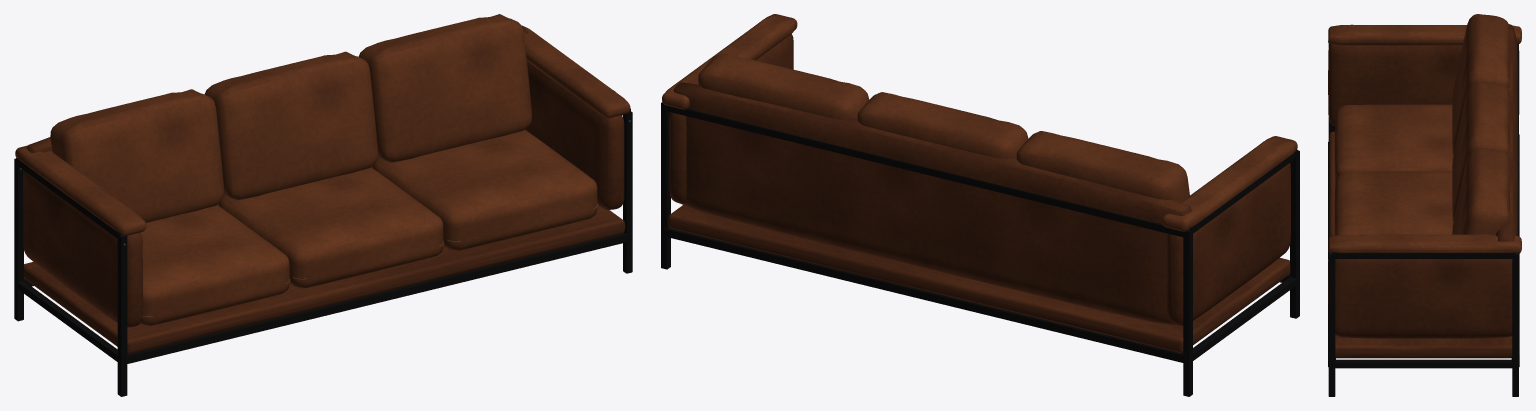
The model's file is industrial_sofa_3_lugares.glb.
3 views of the same model, side by side, from view 1: azimuth 30°, elevation 25°; view 2: azimuth 150°, elevation 25°; view 3: azimuth 270°, elevation 25° (orthographic). The views are drawn at different scales.
Parts seen in each view (by area): view 1: sofa_3_lugares; view 2: sofa_3_lugares; view 3: sofa_3_lugares.
Part boxes in pixels (<box>): sofa_3_lugares: <box>14,14,632,396</box>; sofa_3_lugares: <box>661,14,1299,396</box>; sofa_3_lugares: <box>1328,14,1521,396</box>.
Size of the model in its own units: 2.17 by 0.8166 by 0.8017.
Materials: 5 (3 with a texture image).
